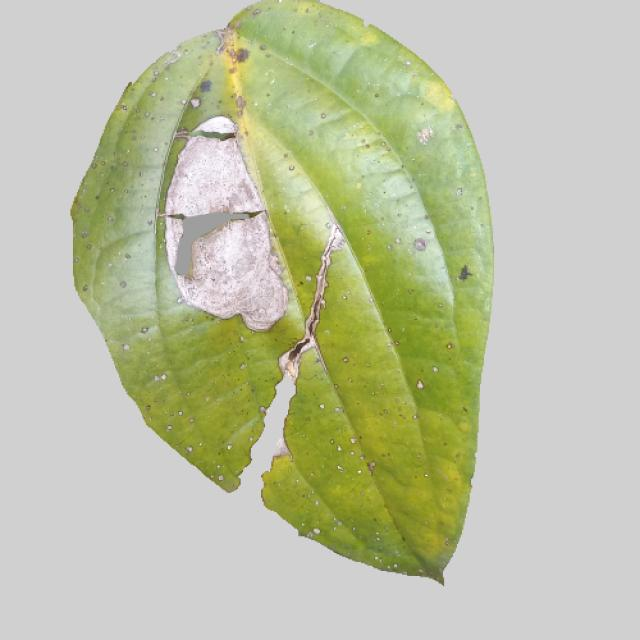leaf-blight: (62, 0, 504, 596)
